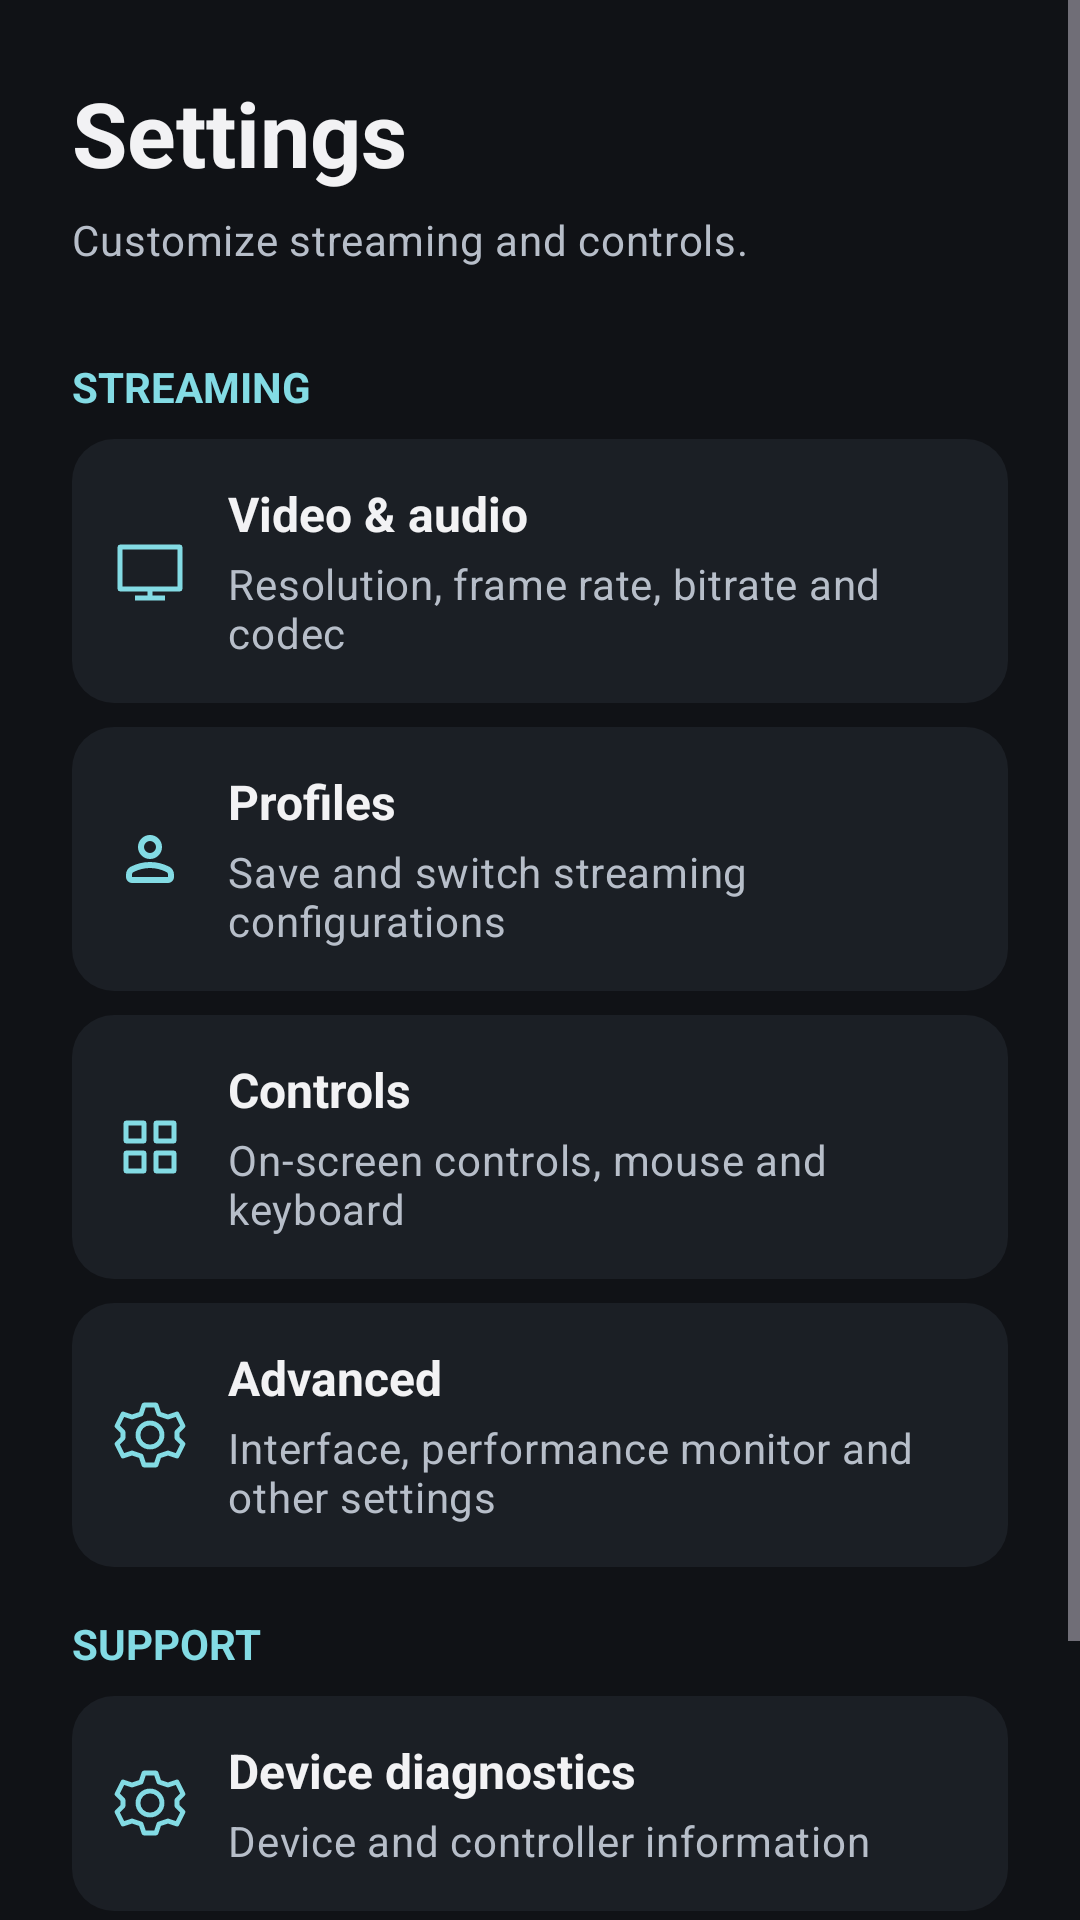

Icon click points for this 1080w x 1920h phone screenshot, format (x,y):
nous pc: (150,572)
nous settings: (150,1435), (150,1803)
